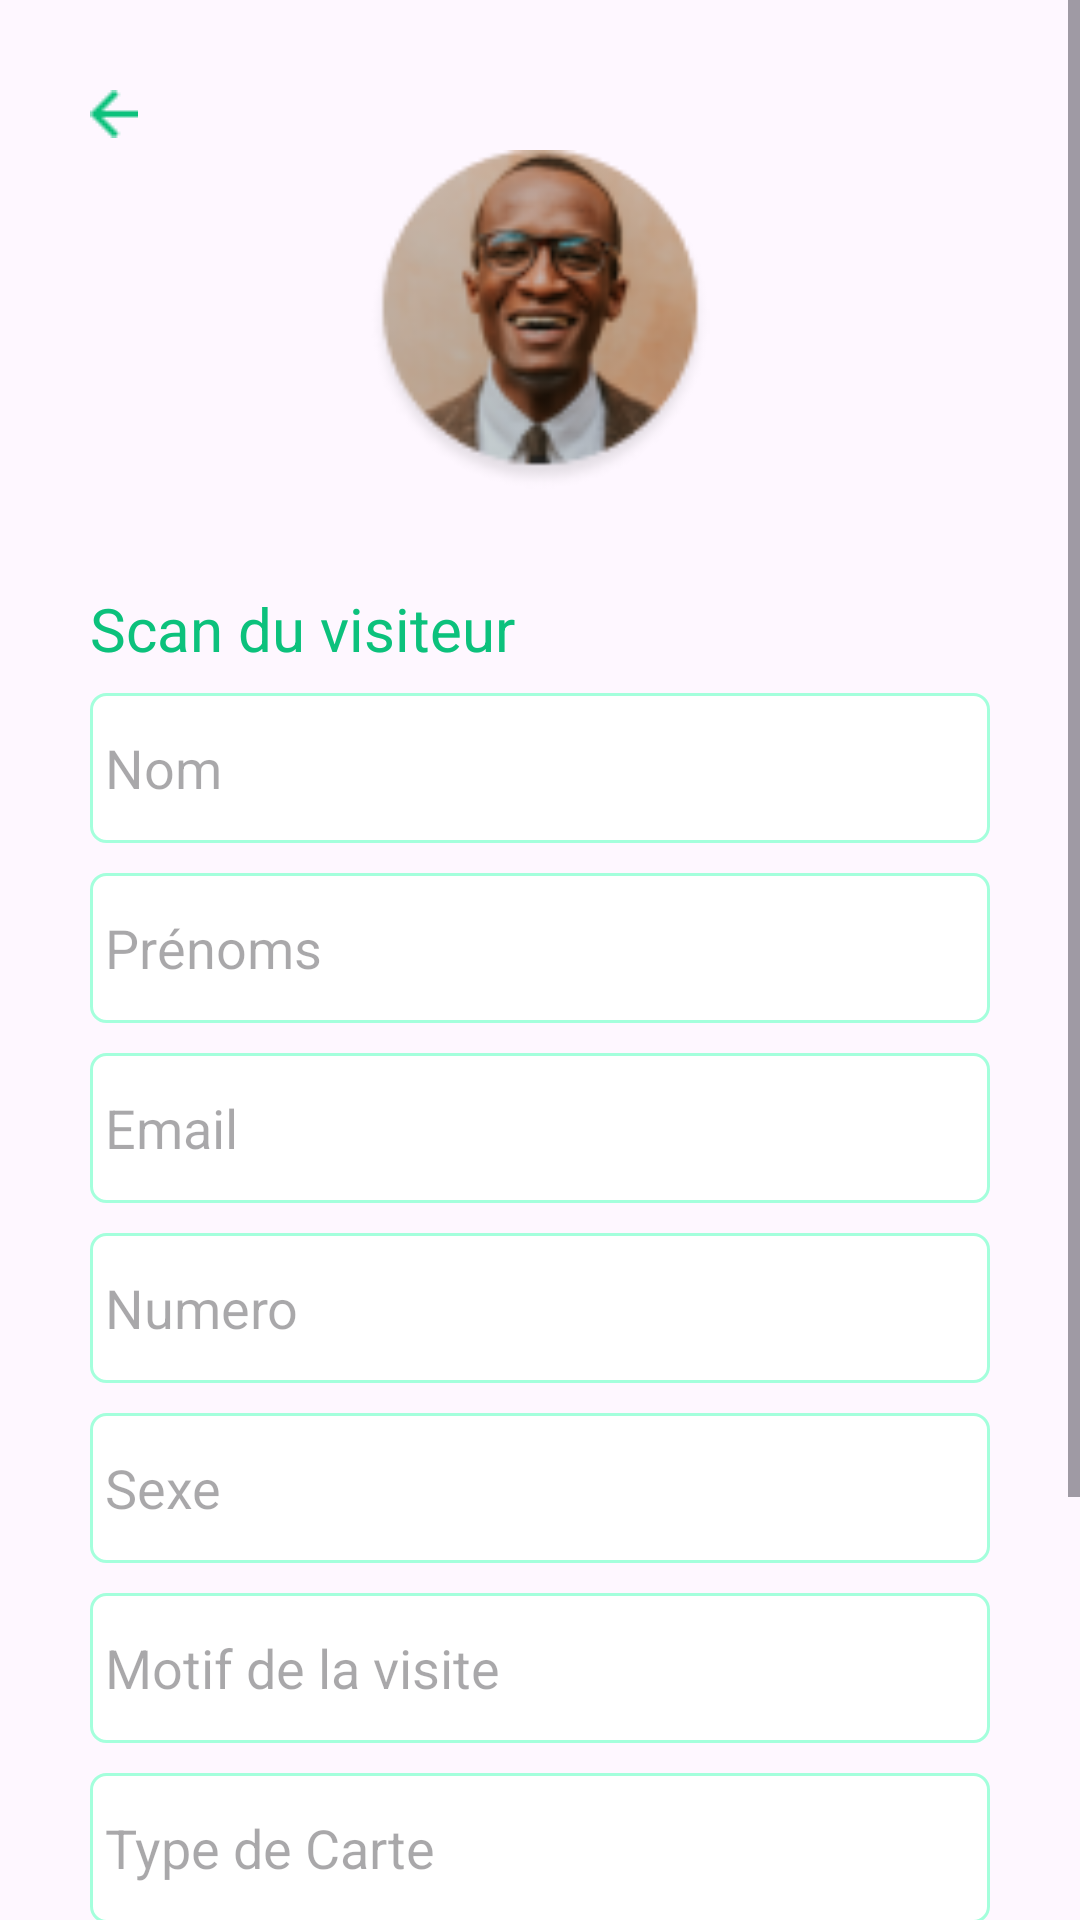

Where icons sit on this 1080px x 1920px app screen, as box=[x1, y1, x2, y2]:
arrow: box=[90, 90, 138, 138]
user profile: box=[382, 150, 699, 470]
